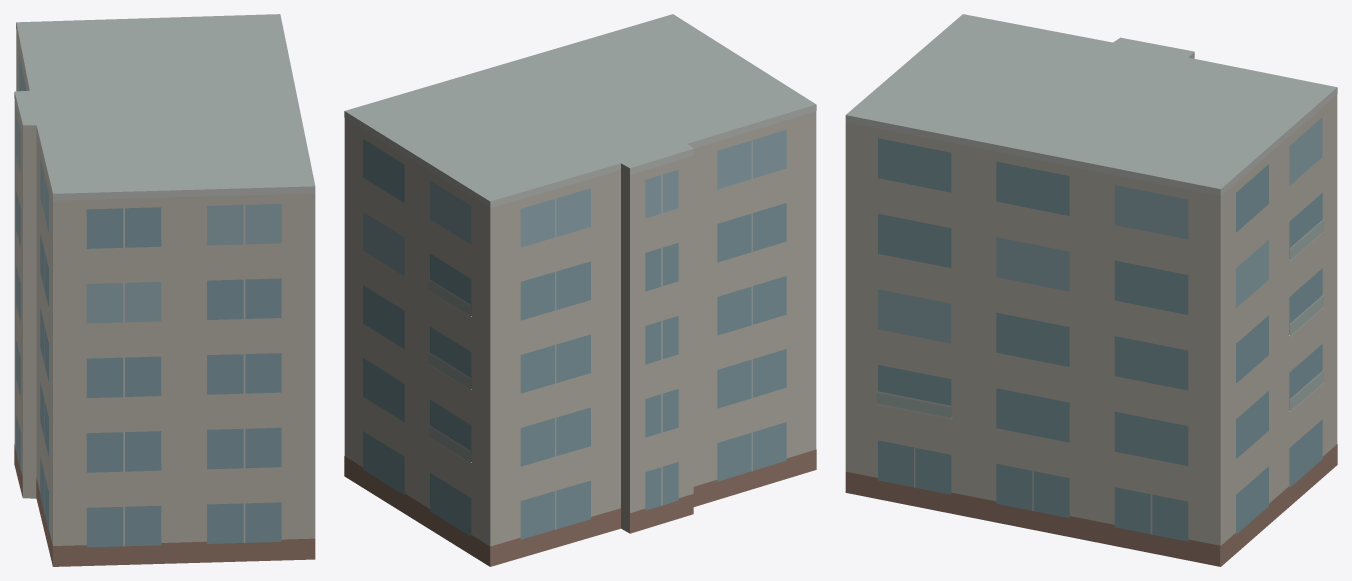
The model's file is survey-upis-32529866.glb.
The picture shows the model from 3 angles, left to right: view 1: azimuth 30°, elevation 25°; view 2: azimuth 150°, elevation 25°; view 3: azimuth 270°, elevation 25°; orthographic projection. The views are drawn at different scales.
Visible parts, largest first — view 1: survey-upis-32529866.tmp; view 2: survey-upis-32529866.tmp; view 3: survey-upis-32529866.tmp.
Boxes of the visible parts, x1,y1,x2,y2 form: survey-upis-32529866.tmp: (14, 14, 315, 566); survey-upis-32529866.tmp: (344, 14, 816, 566); survey-upis-32529866.tmp: (845, 14, 1337, 566).
Bounding box in the file's own units: 13.19 × 13.25 × 15.65.
